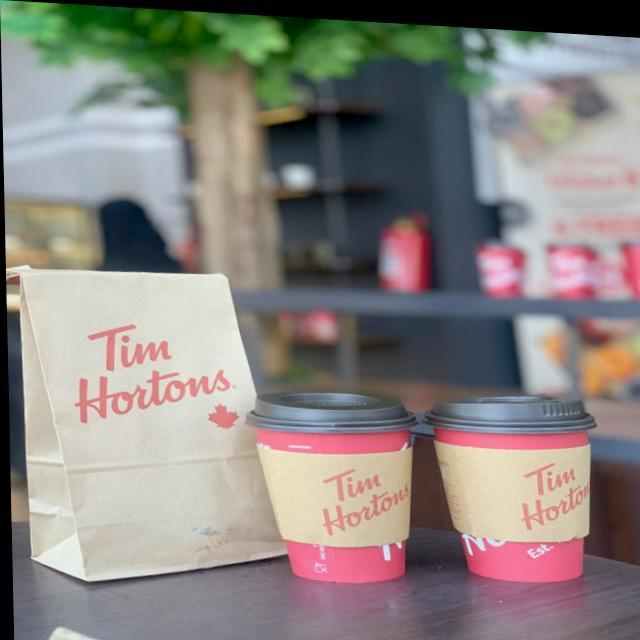timmies: (417, 372, 601, 582), (242, 383, 420, 585)
